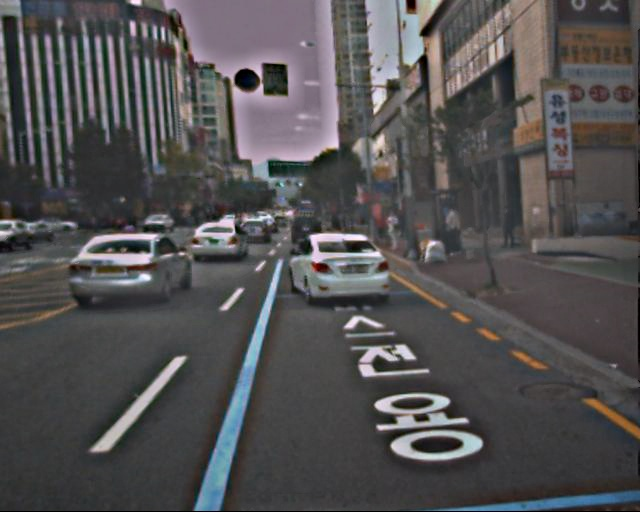person: (441, 204, 464, 260), (499, 205, 518, 251), (385, 211, 402, 253)
